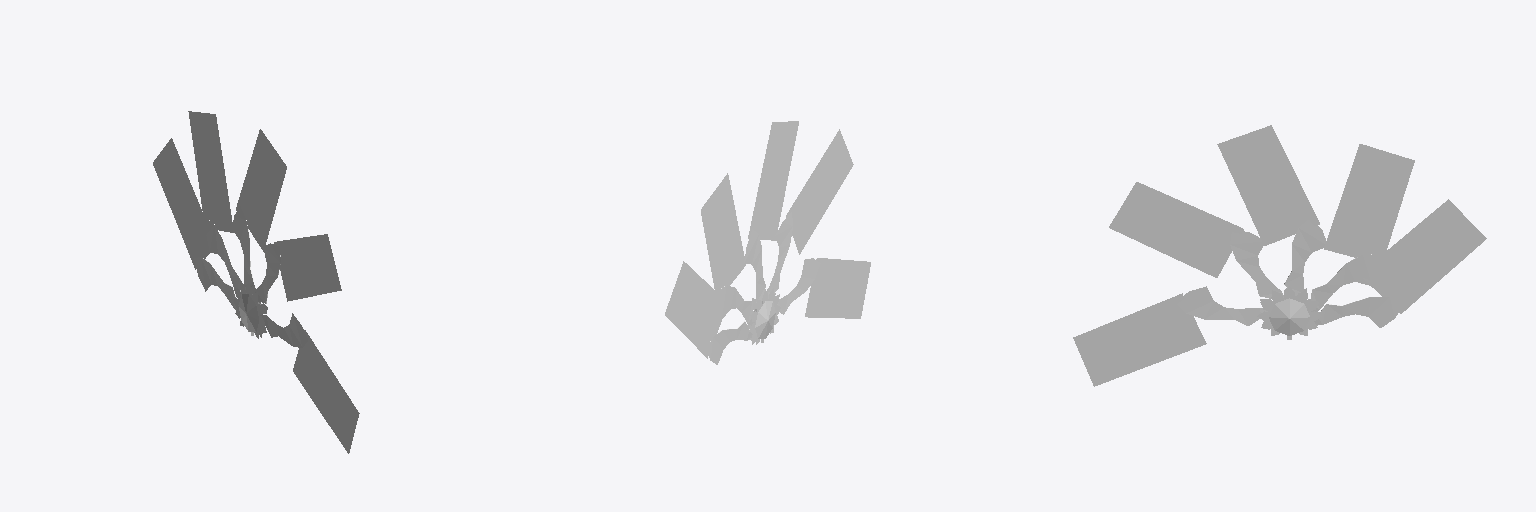
File: macabredancerx2.obj
3 renders of one model, left to right at view 1: azimuth 30°, elevation 25°; view 2: azimuth 150°, elevation 25°; view 3: azimuth 270°, elevation 25°, orthographic.
Visible parts, largest first — view 1: MDL_w2dfnx2l_bld01_004, MDL_w2dfnx2l_bld01_003, MDL_w2dfnx2l_bld01_002, MDL_w2dfnx2l_bld01_001, MDL_w2dfnx2l_bld01.005, MDL_w2dfnx2l_bod00.001; view 2: MDL_w2dfnx2l_bld01_001, MDL_w2dfnx2l_bld01_002, MDL_w2dfnx2l_bld01_004, MDL_w2dfnx2l_bld01_003, MDL_w2dfnx2l_bld01.005, MDL_w2dfnx2l_bod00.001; view 3: MDL_w2dfnx2l_bld01_004, MDL_w2dfnx2l_bld01_003, MDL_w2dfnx2l_bld01_002, MDL_w2dfnx2l_bld01.005, MDL_w2dfnx2l_bld01_001, MDL_w2dfnx2l_bod00.001.
Part boxes in pixels (x1,y1,x2,y2): MDL_w2dfnx2l_bld01_004: (260, 313, 359, 453); MDL_w2dfnx2l_bld01_003: (255, 234, 341, 305); MDL_w2dfnx2l_bld01_002: (232, 129, 286, 293); MDL_w2dfnx2l_bld01_001: (188, 111, 240, 293); MDL_w2dfnx2l_bld01.005: (153, 138, 236, 309); MDL_w2dfnx2l_bod00.001: (233, 280, 267, 338); MDL_w2dfnx2l_bld01_001: (701, 173, 754, 325); MDL_w2dfnx2l_bld01_002: (744, 121, 798, 311); MDL_w2dfnx2l_bld01_004: (777, 258, 870, 318); MDL_w2dfnx2l_bld01_003: (767, 129, 853, 298); MDL_w2dfnx2l_bld01.005: (665, 261, 752, 364); MDL_w2dfnx2l_bod00.001: (747, 288, 780, 344); MDL_w2dfnx2l_bld01_004: (1073, 286, 1267, 386); MDL_w2dfnx2l_bld01_003: (1109, 182, 1284, 299); MDL_w2dfnx2l_bld01_002: (1217, 125, 1325, 298); MDL_w2dfnx2l_bld01.005: (1314, 199, 1486, 327); MDL_w2dfnx2l_bld01_001: (1311, 144, 1414, 311); MDL_w2dfnx2l_bod00.001: (1257, 286, 1321, 339).
Size of the model in its own units: 0.06 by 1.51 by 2.17.